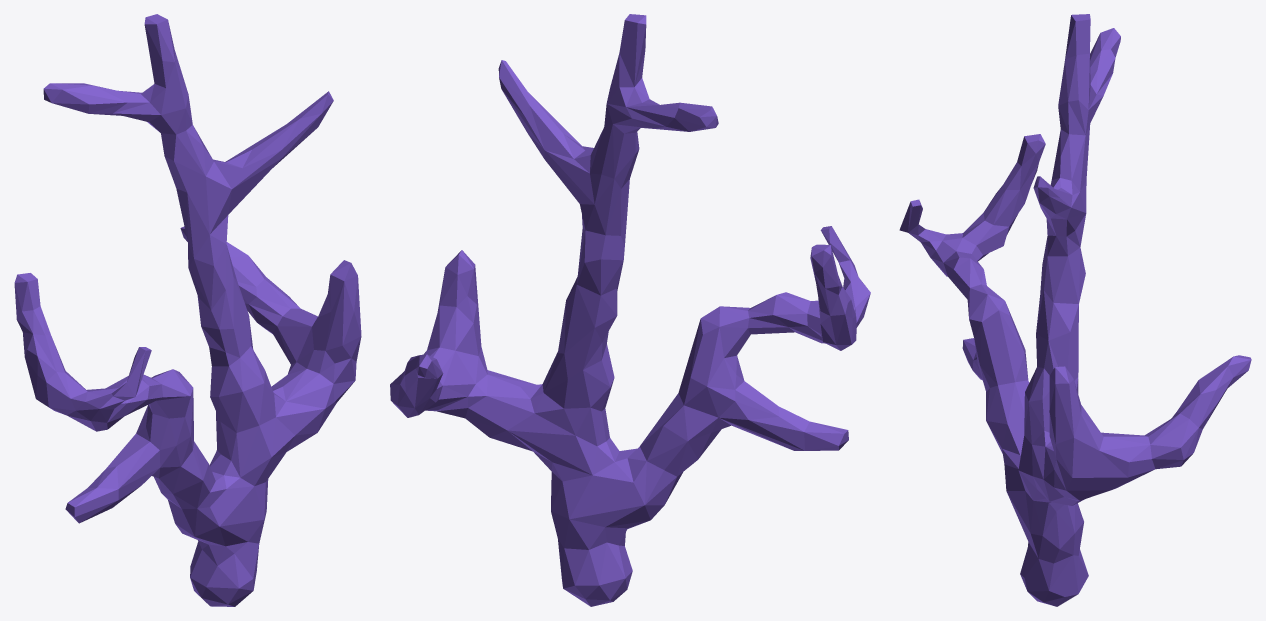
File: coral-3.gltf
The picture shows the model from 3 angles, left to right: view 1: azimuth 30°, elevation 25°; view 2: azimuth 150°, elevation 25°; view 3: azimuth 270°, elevation 25°; orthographic projection. The views are drawn at different scales.
Visible parts, largest first — view 1: Coral.002; view 2: Coral.002; view 3: Coral.002.
Boxes of the visible parts, box(x1,y1,x2,y2) form: Coral.002: box(14, 14, 361, 606); Coral.002: box(390, 14, 870, 606); Coral.002: box(899, 14, 1251, 606).
Size of the model in its own units: 0.3495 by 0.5392 by 0.306.
